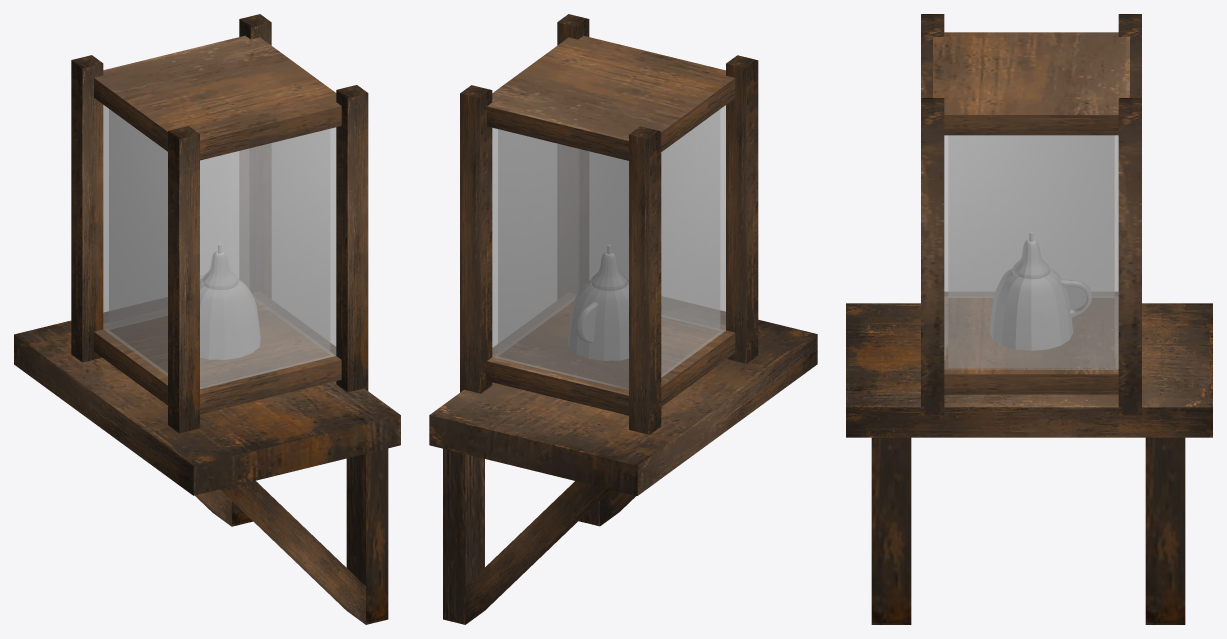
Rendered from walllamp.FBX.
3 renders of one model, left to right at view 1: azimuth 30°, elevation 25°; view 2: azimuth 150°, elevation 25°; view 3: azimuth 270°, elevation 25°, orthographic. The views are drawn at different scales.
Parts seen in each view (by area): view 1: 등002, 촛대 004; view 2: 등002, 촛대 004; view 3: 등002, 촛대 004.
Part boxes in pixels (x1=…): 등002: x1=71, y1=14, x2=368, y2=433; 촛대 004: x1=14, y1=311, x2=400, y2=624; 등002: x1=460, y1=14, x2=758, y2=434; 촛대 004: x1=429, y1=311, x2=817, y2=624; 등002: x1=921, y1=14, x2=1141, y2=415; 촛대 004: x1=846, y1=303, x2=1212, y2=624.
Size of the model in its own units: 23.64 by 54.24 by 34.76.
